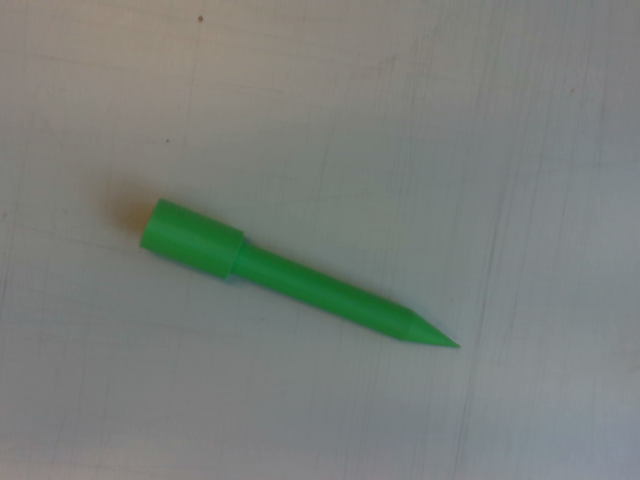Probe: (134, 195, 468, 356)
